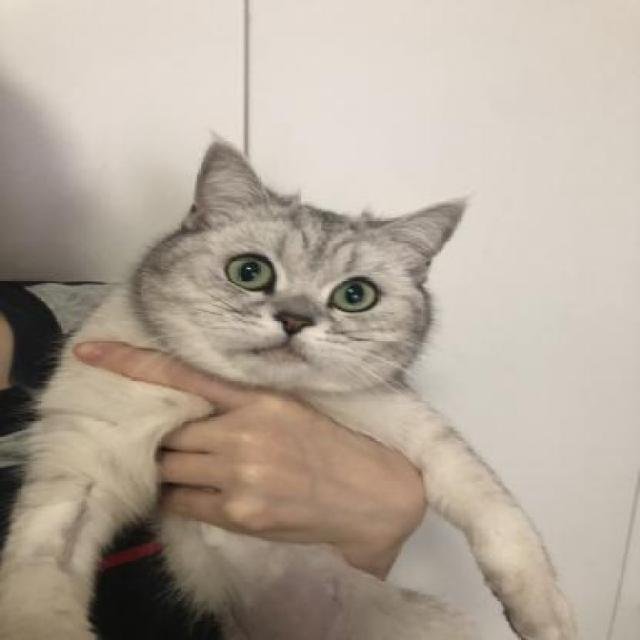cat-face: (106, 134, 480, 382)
